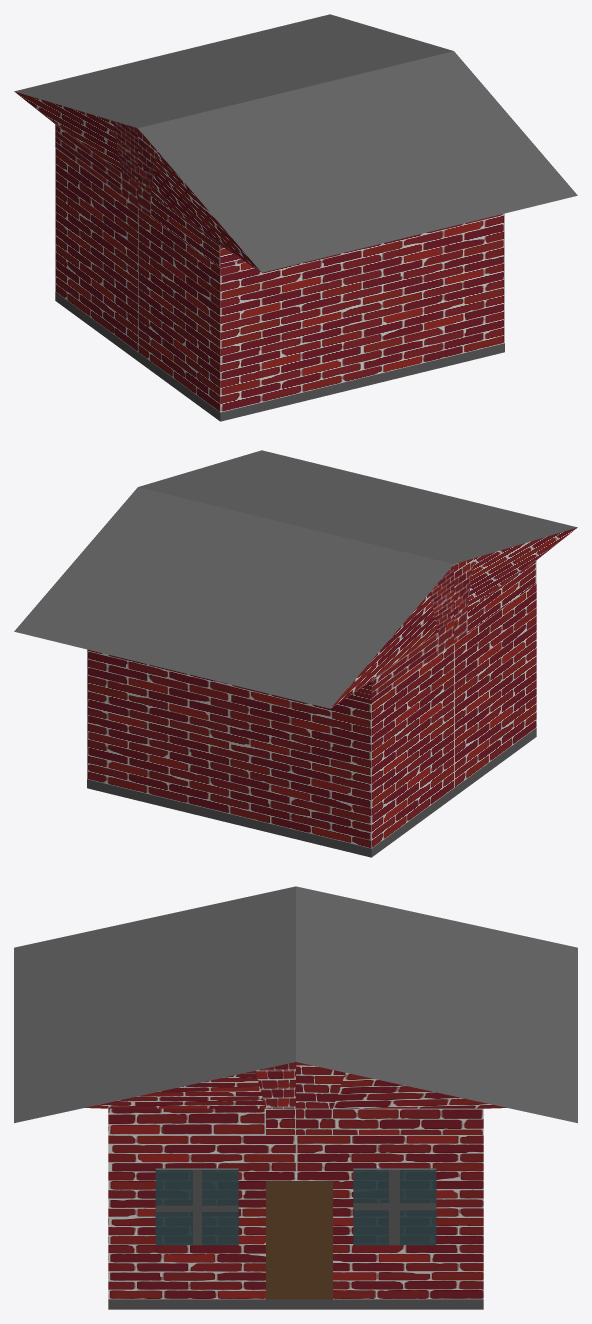
The model's file is House1 1.fbx.
3 renders of one model, top to bottom at view 1: azimuth 30°, elevation 25°; view 2: azimuth 150°, elevation 25°; view 3: azimuth 270°, elevation 25°, orthographic. The views are drawn at different scales.
Visible parts, largest first — view 1: Cube; view 2: Cube; view 3: Cube.
Boxes of the visible parts, x1,y1,x2,y2 form: Cube: [14, 14, 577, 421]; Cube: [14, 450, 577, 857]; Cube: [14, 886, 577, 1309].
Bounding box in the file's own units: 637 × 448 × 864.
Materials: 4 (1 with a texture image).
